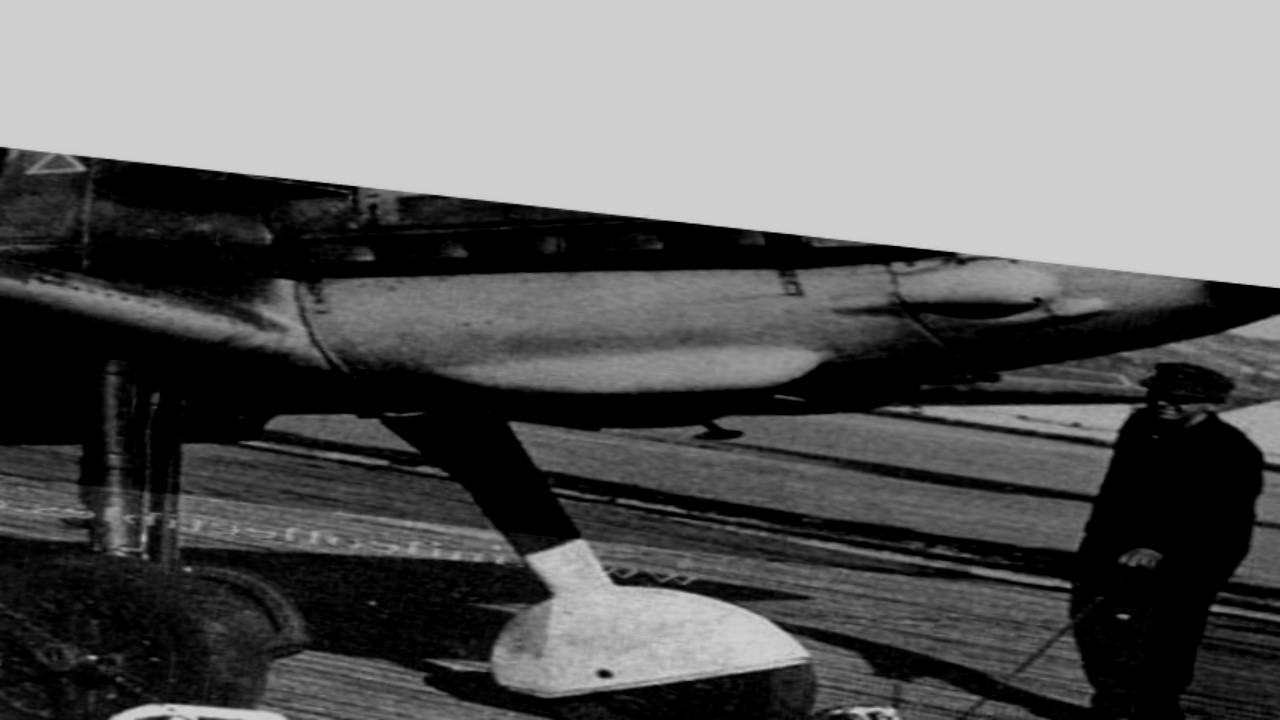chock: (0, 676, 321, 720), (700, 678, 956, 720)
wheel: (0, 529, 332, 720), (477, 560, 852, 720)
